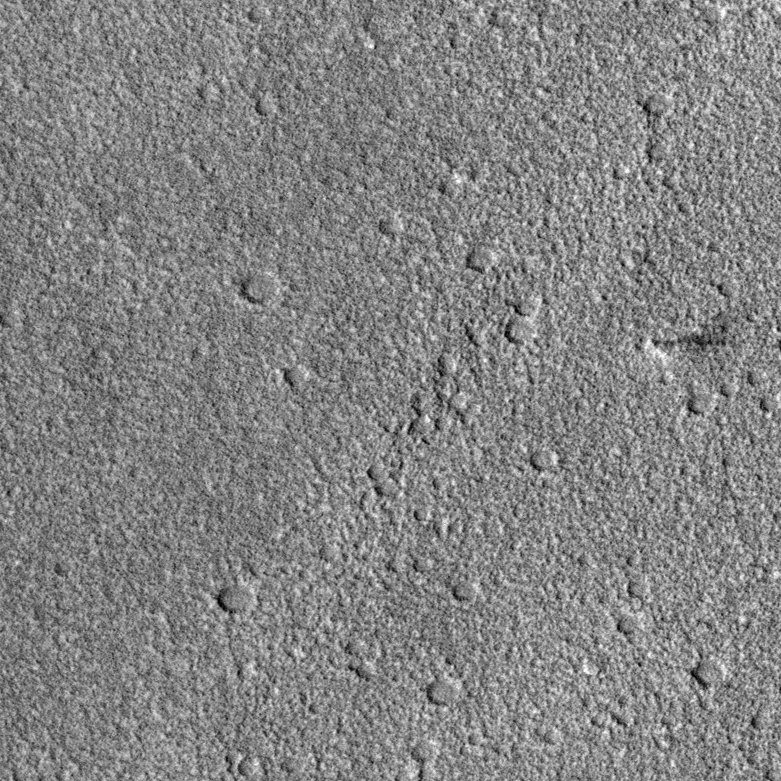dust_devil: (637, 311, 739, 384)
